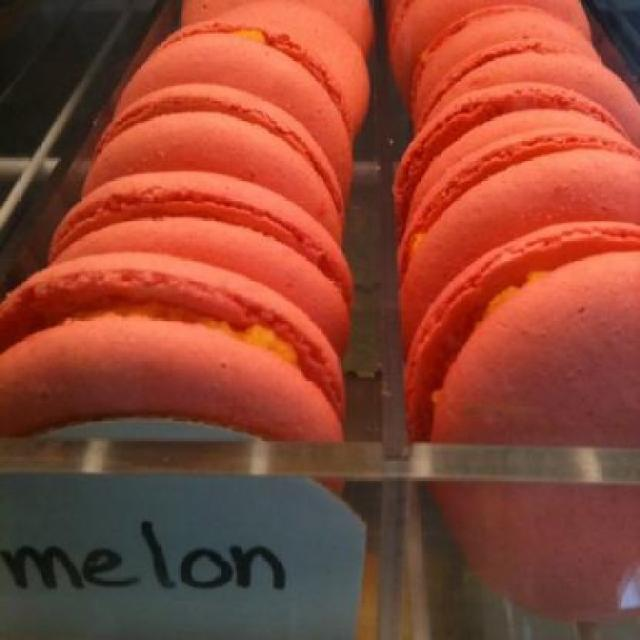Macaron: (6, 3, 639, 480)
